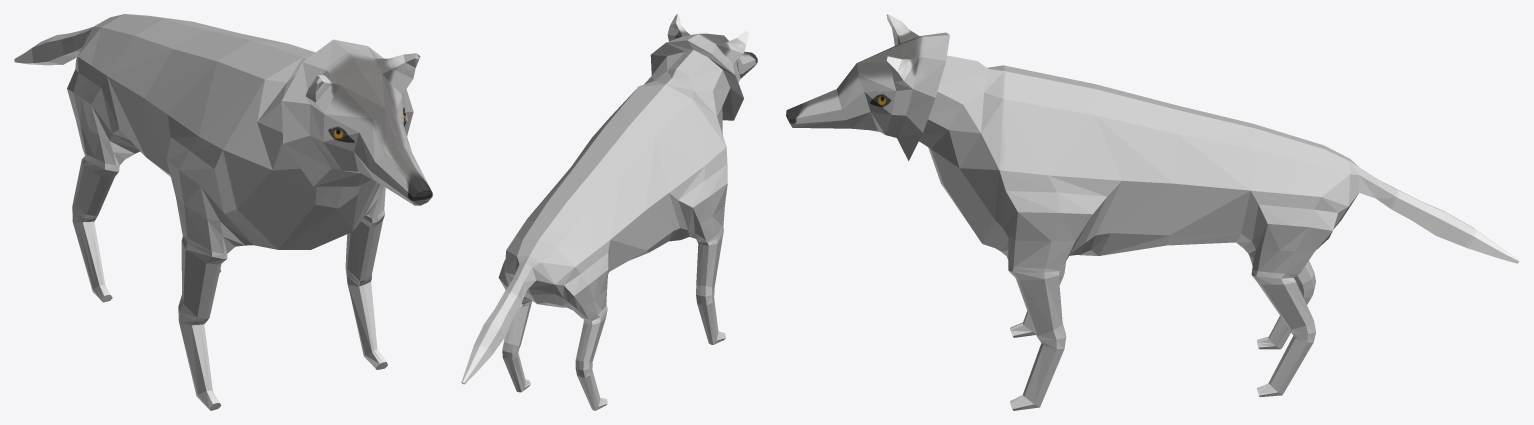
The model's file is WOLF.obj.
The picture shows the model from 3 angles, left to right: view 1: azimuth 30°, elevation 25°; view 2: azimuth 150°, elevation 25°; view 3: azimuth 270°, elevation 25°; orthographic projection. The views are drawn at different scales.
Parts seen in each view (by area): view 1: Cylinder001; view 2: Cylinder001; view 3: Cylinder001.
Part boxes in pixels (<box>): Cylinder001: <box>14,14,432,410</box>; Cylinder001: <box>461,14,757,410</box>; Cylinder001: <box>786,14,1519,410</box>.
Size of the model in its own units: 75.31 by 142 by 280.
